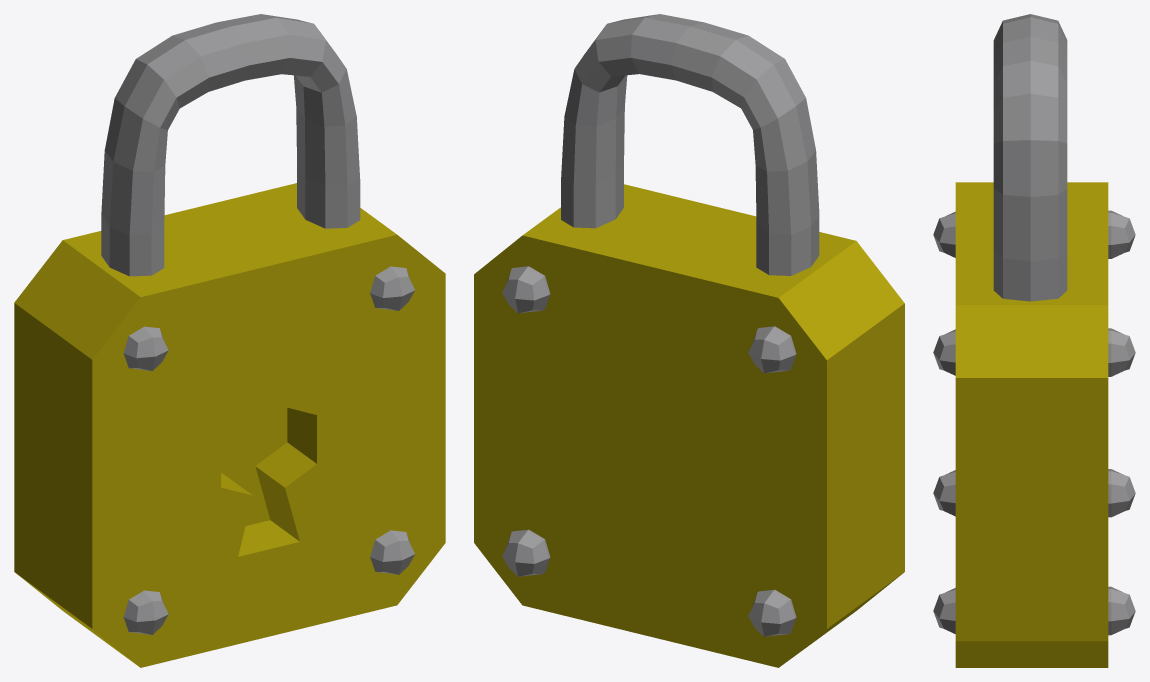
The model's file is lock_gold.glb.
3 renders of one model, left to right at view 1: azimuth 30°, elevation 25°; view 2: azimuth 150°, elevation 25°; view 3: azimuth 270°, elevation 25°, orthographic. The views are drawn at different scales.
Parts seen in each view (by area): view 1: Padlock; view 2: Padlock; view 3: Padlock.
Part boxes in pixels (x1,y1,x2,y2): Padlock: (14,14,445,667); Padlock: (474,14,904,667); Padlock: (933,14,1135,667).
Bounding box in the file's own units: 0.6153 × 0.9686 × 0.3117.
